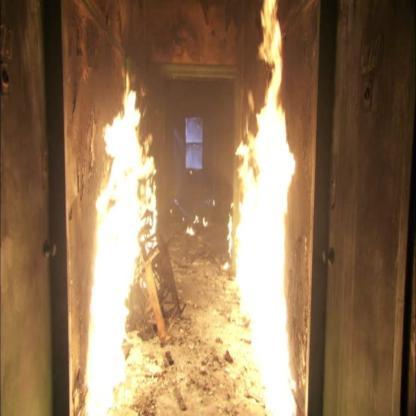fire: (226, 0, 306, 415), (85, 86, 148, 412)
